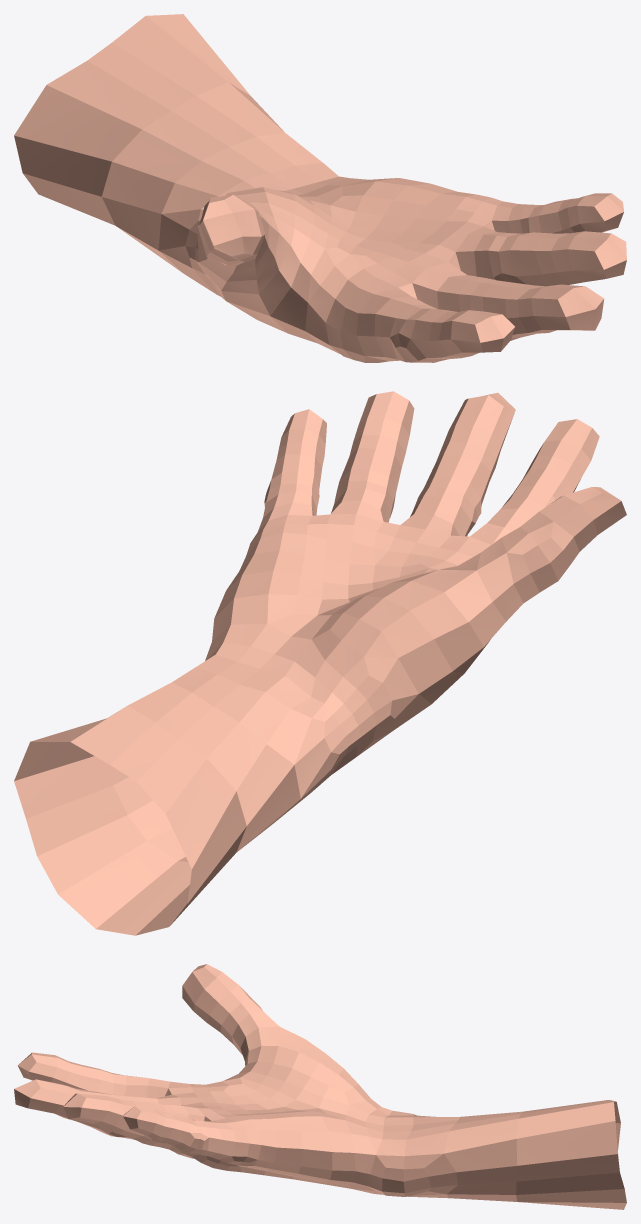
The model's file is 2_7_HandPolygonalRighFront.glb.
The picture shows the model from 3 angles, top to bottom: view 1: azimuth 30°, elevation 25°; view 2: azimuth 150°, elevation 25°; view 3: azimuth 270°, elevation 25°; orthographic projection. The views are drawn at different scales.
Parts seen in each view (by area): view 1: hand_man_polySurface1.006; view 2: hand_man_polySurface1.006; view 3: hand_man_polySurface1.006.
Boxes of the visible parts, left/top/right/bottom form: hand_man_polySurface1.006: left=14, top=14, right=626, bottom=362; hand_man_polySurface1.006: left=14, top=391, right=626, bottom=935; hand_man_polySurface1.006: left=14, top=964, right=626, bottom=1209.
Bounding box in the file's own units: 0.0799 × 0.0535 × 0.1653.
